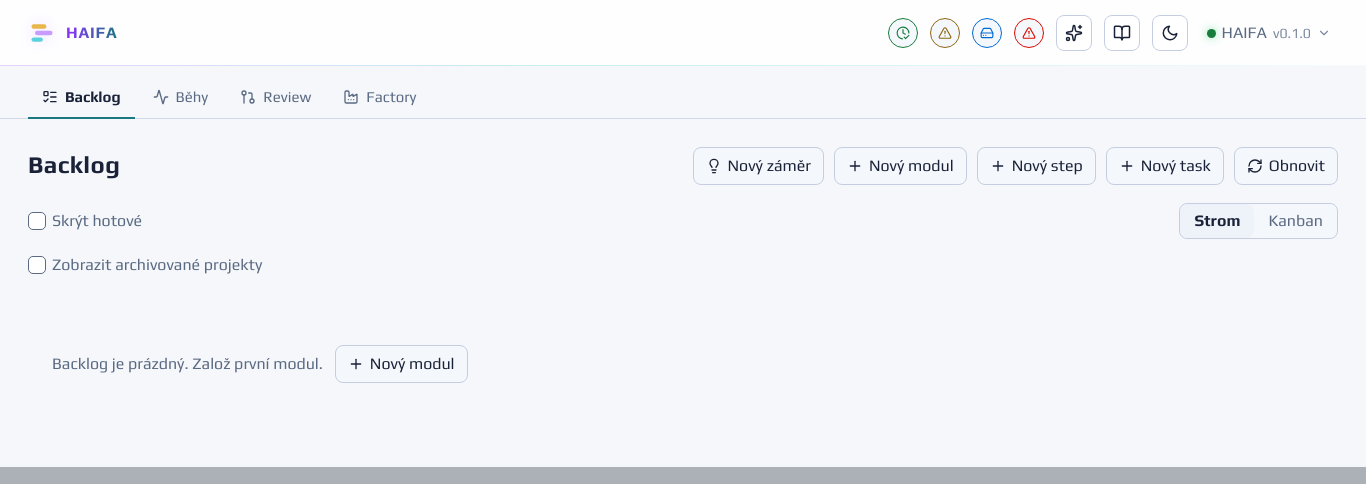
Test: App › gives the theme toggle an accessible name and a custom tooltip
This screenshot has width=1366, height=484.
Focus the button with class "theme-toggle" at (1170, 33), box [1152, 15, 1188, 51]
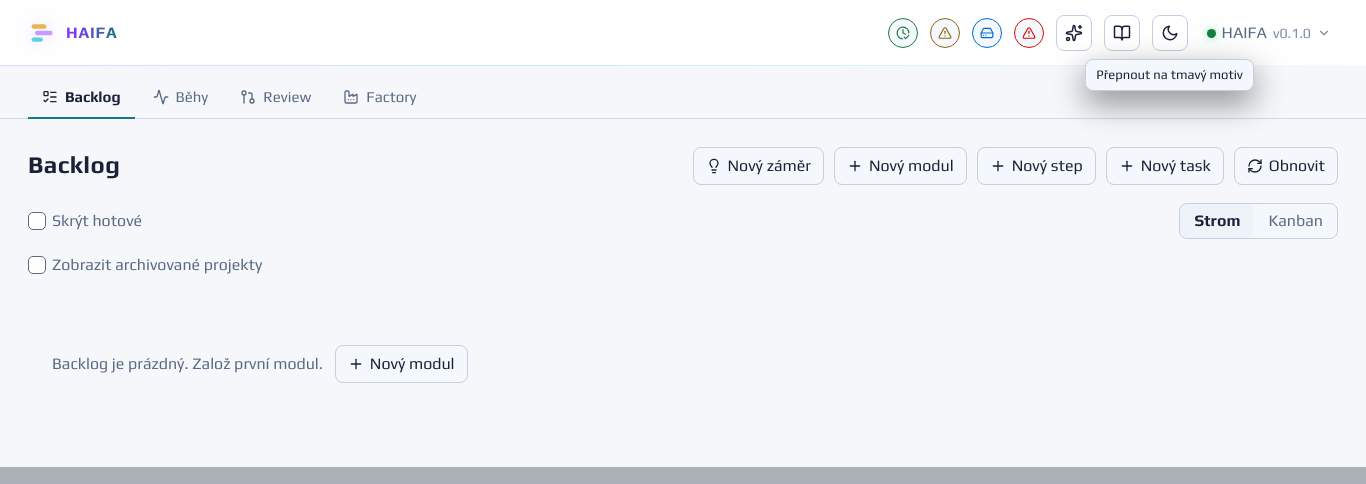
Result: the tooltip with test id "tooltip" reads "Přepnout na tmavý motiv" at [1096, 67, 1243, 82]
